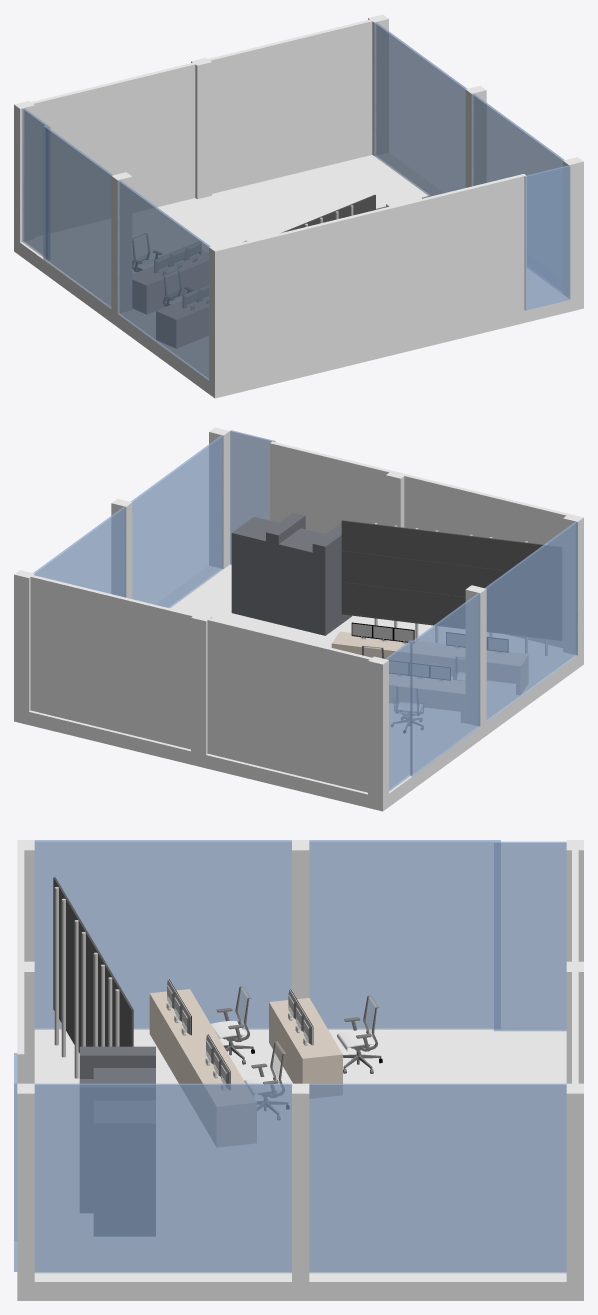
Rendered from 3D-room.glb.
The picture shows the model from 3 angles, top to bottom: view 1: azimuth 30°, elevation 25°; view 2: azimuth 150°, elevation 25°; view 3: azimuth 270°, elevation 25°; orthographic projection. The views are drawn at different scales.
Parts seen in each view (by area): view 1: 3D room; view 2: 3D room; view 3: 3D room.
Boxes of the visible parts, box(x1,y1,x2,y2) form: 3D room: box(14, 14, 583, 398); 3D room: box(14, 427, 583, 811); 3D room: box(14, 840, 583, 1300).
Size of the model in its own units: 8.67 by 3.3 by 8.23.
Materials: 16 (2 with a texture image).
